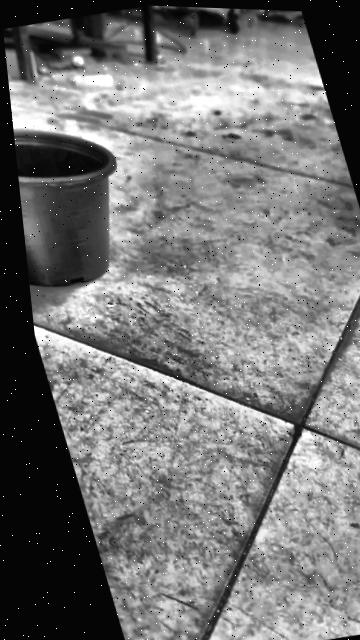pot: (11, 108, 149, 295)
